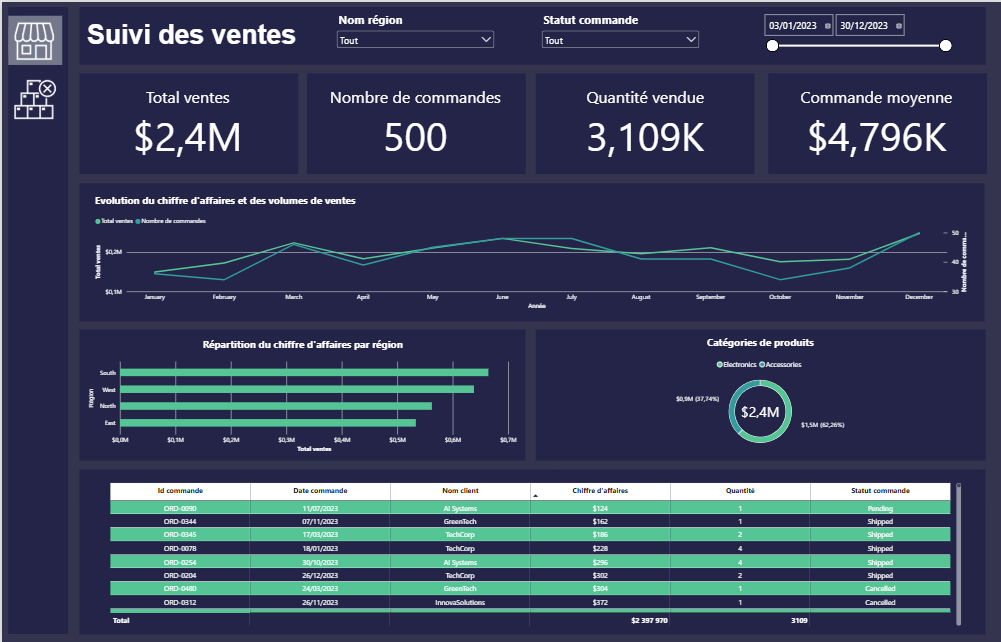

The dashboard page shown, as its layout file describes it:
{"tool":"powerbi","page":{"name":"Suivi vente","canvas":[2000,1280],"ordinal":0},"visuals":[{"type":"shape","box":[12,10,120,1254],"z":0},{"type":"shape","box":[155.4,10.8,1812.8,115.7],"z":1000},{"type":"shape","box":[154.4,143.7,437.5,201.6],"z":2000},{"type":"shape","box":[609.1,143.7,437.5,201.6],"z":3000},{"type":"shape","box":[1068.1,143.7,437.5,201.6],"z":4000},{"type":"shape","box":[1531.4,143.7,437.5,201.6],"z":5000},{"type":"shape","box":[154.4,362.5,1810.2,276.7],"z":6000},{"type":"shape","box":[154,654,892,262],"z":7000},{"type":"shape","box":[1068,654,900,262],"z":8000},{"type":"shape","box":[156,934,1812.3,330.3],"z":9000},{"type":"textbox","box":[169.4,34.3,439.7,68.6],"z":10000},{"type":"cardVisual","fields":{"Data":["Clients_dim.Total ventes"]},"box":[170.1,159.2,403.5,168],"z":11000},{"type":"cardVisual","fields":{"Data":["Clients_dim.Nombre de commandes"]},"box":[626,159.2,403.5,168],"z":12000},{"type":"cardVisual","fields":{"Data":["ventes_fait.Quantité vendue"]},"box":[1084.1,159.2,403.5,168],"z":13000},{"type":"cardVisual","fields":{"Data":["Clients_dim.Commande moyenne"]},"box":[1546.6,159.2,403.5,168],"z":14000},{"type":"lineChart","title":"Evolution du chiffre d''affaires et des volumes de ventes","fields":{"Category":["ventes_fait.Date commande.Variation.Date Hierarchy.Year","ventes_fait.Date commande.Variation.Date Hierarchy.Quarter","ventes_fait.Date commande.Variation.Date Hierarchy.Month","ventes_fait.Date commande.Variation.Date Hierarchy.Day"],"Y":["Mesures.Total ventes"],"Y2":["Mesures.Nombre de commandes"]},"box":[170,367.5,1780,262.5],"z":15000},{"type":"barChart","title":"Répartition du chiffre d''affaires par région","fields":{"Y":["Mesures.Total ventes"],"Category":["Région_dim.Nom région"]},"box":[158,654,888,262],"z":16000},{"type":"donutChart","title":"Catégories de produits","fields":{"Category":["Produits_dim.Catégorie produit"],"Y":["Mesures.Total ventes"]},"box":[1073.3,653.3,888,262],"z":17000},{"type":"tableEx","fields":{"Values":["ventes_fait.Id commande","ventes_fait.Date commande","Clients_dim.Nom client","Sum(ventes_fait.Prix total)","Sum(ventes_fait.Quantité)","ventes_fait.Statut commande"]},"box":[200,948,1734,316],"z":18000},{"type":"slicer","fields":{"Values":["Région_dim.Nom région"]},"box":[666,20,324,96],"z":19000},{"type":"slicer","fields":{"Values":["ventes_fait.Statut commande"]},"box":[1074,20,324,82],"z":20000},{"type":"slicer","fields":{"Values":["ventes_fait.Date commande"]},"box":[1518,20,386,82],"z":21000},{"type":"shape","box":[12,28,108,98],"z":21500},{"type":"image","box":[14,144,102,100],"z":23000},{"type":"image","box":[12.5,20,104,116],"z":23500}]}

Visuals, with their boxes in screenshot pixels (x1, y1, x2, y2), scaled from the page's 2000x1280 canvas onto the 1001x642 screenshot:
shape: 6,5,66,634
shape: 78,5,985,63
shape: 77,72,296,173
shape: 305,72,524,173
shape: 535,72,754,173
shape: 766,72,985,173
shape: 77,182,983,321
shape: 77,328,524,459
shape: 535,328,985,459
shape: 78,468,985,634
textbox: 85,17,305,52
cardVisual - Clients_dim.Total ventes: 85,80,287,164
cardVisual - Clients_dim.Nombre de commandes: 313,80,515,164
cardVisual - ventes_fait.Quantité vendue: 543,80,745,164
cardVisual - Clients_dim.Commande moyenne: 774,80,976,164
"Evolution du chiffre d''affaires et des volumes de ventes" lineChart: 85,184,976,316
"Répartition du chiffre d''affaires par région" barChart: 79,328,524,459
"Catégories de produits" donutChart: 537,328,982,459
tableEx - ventes_fait.Id commande x ventes_fait.Date commande: 100,475,968,634
slicer - Région_dim.Nom région: 333,10,495,58
slicer - ventes_fait.Statut commande: 538,10,700,51
slicer - ventes_fait.Date commande: 760,10,953,51
shape: 6,14,60,63
image: 7,72,58,122
image: 6,10,58,68
